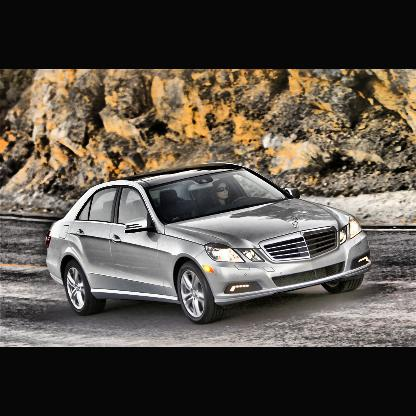Mercedes-Benz E-Class Sedan 2012: (46, 163, 373, 326)
